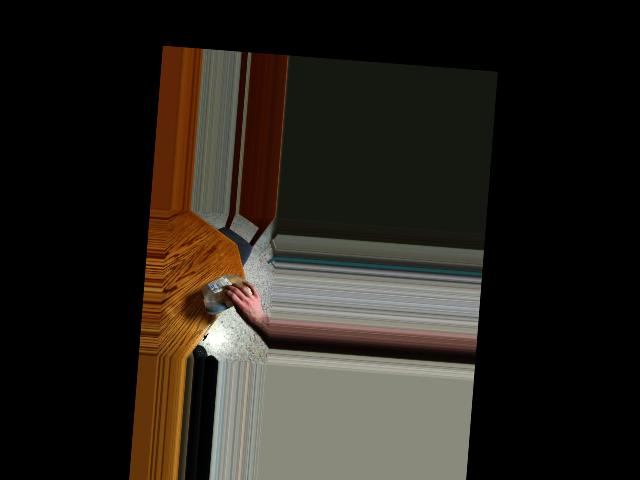cheese: (204, 273, 246, 305)
